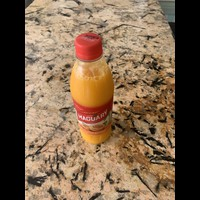maguary: (67, 33, 120, 144)
